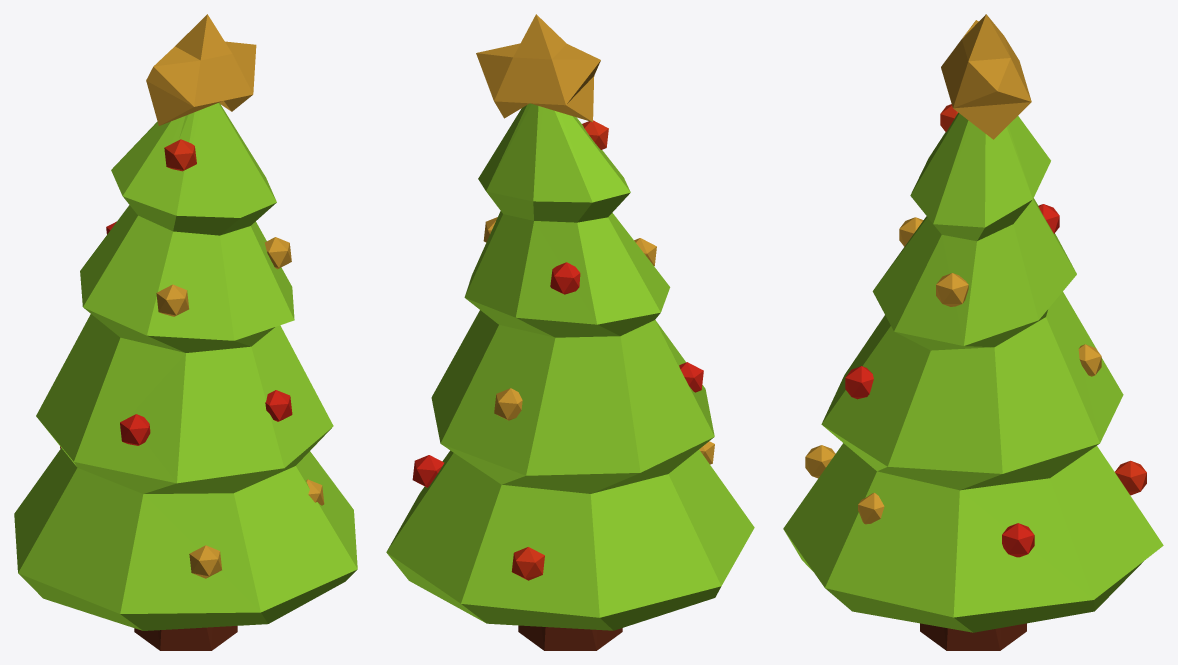
Rendered from tree1.obj.
3 renders of one model, left to right at view 1: azimuth 30°, elevation 25°; view 2: azimuth 150°, elevation 25°; view 3: azimuth 270°, elevation 25°, orthographic. The views are drawn at different scales.
Visible parts, largest first — view 1: Cylinder; view 2: Cylinder; view 3: Cylinder.
Boxes of the visible parts, x1,y1,x2,y2 form: Cylinder: (14, 14, 357, 650); Cylinder: (386, 14, 754, 650); Cylinder: (783, 14, 1163, 650).
Size of the model in its own units: 1.06 by 1.94 by 1.06.
